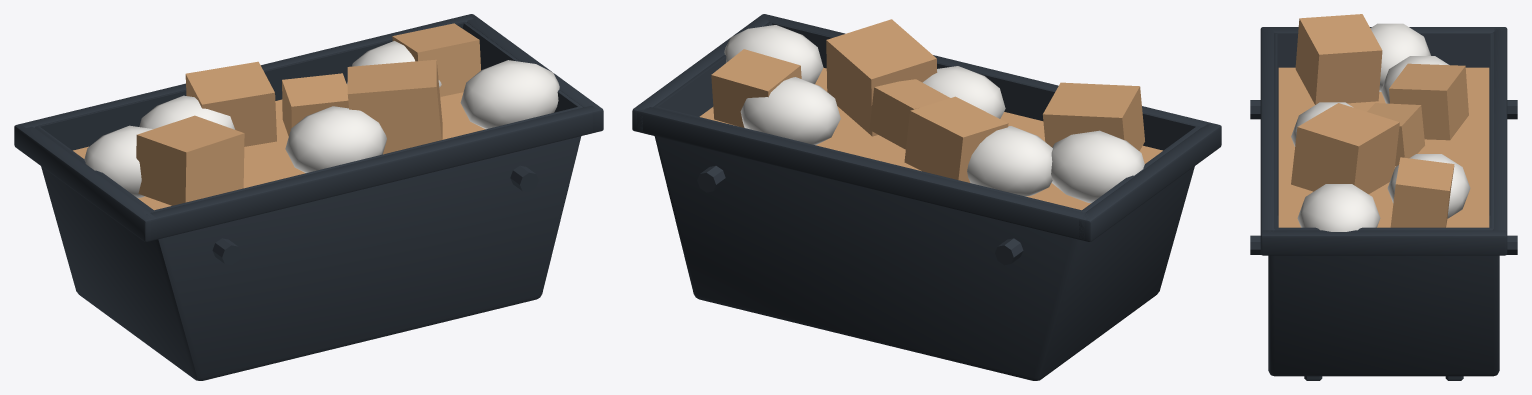
File: ENV_WASTE_SKIP_A_v001.glb
3 views of the same model, side by side, from view 1: azimuth 30°, elevation 25°; view 2: azimuth 150°, elevation 25°; view 3: azimuth 270°, elevation 25° (orthographic). The views are drawn at different scales.
Visible parts, largest first — view 1: ENV_WASTE_SKIP_A_BODY, ENV_WASTE_SKIP_A_CONTENT, ENV_WASTE_SKIP_A_FITTINGS; view 2: ENV_WASTE_SKIP_A_BODY, ENV_WASTE_SKIP_A_CONTENT, ENV_WASTE_SKIP_A_FITTINGS; view 3: ENV_WASTE_SKIP_A_BODY, ENV_WASTE_SKIP_A_CONTENT, ENV_WASTE_SKIP_A_FITTINGS.
Part boxes in pixels (x1=…): ENV_WASTE_SKIP_A_BODY: x1=14, y1=14, x2=603, y2=380; ENV_WASTE_SKIP_A_CONTENT: x1=73, y1=23, x2=559, y2=210; ENV_WASTE_SKIP_A_FITTINGS: x1=212, y1=165, x2=538, y2=265; ENV_WASTE_SKIP_A_BODY: x1=632, y1=14, x2=1221, y2=380; ENV_WASTE_SKIP_A_CONTENT: x1=699, y1=19, x2=1162, y2=210; ENV_WASTE_SKIP_A_FITTINGS: x1=697, y1=165, x2=1023, y2=265; ENV_WASTE_SKIP_A_BODY: x1=1260, y1=27, x2=1507, y2=380; ENV_WASTE_SKIP_A_CONTENT: x1=1278, y1=14, x2=1489, y2=231; ENV_WASTE_SKIP_A_FITTINGS: x1=1250, y1=100, x2=1517, y2=254.
Bounding box in the file's own units: 3.86 × 1.9 × 2.08.
